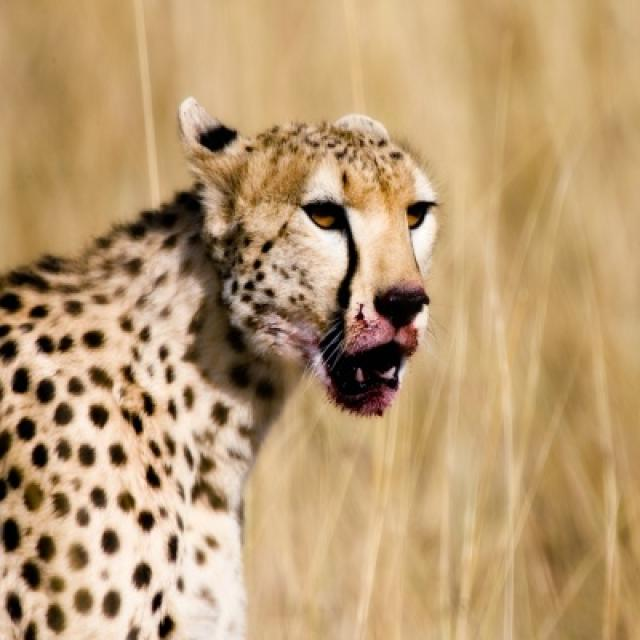Cheetah: (0, 99, 438, 638)
